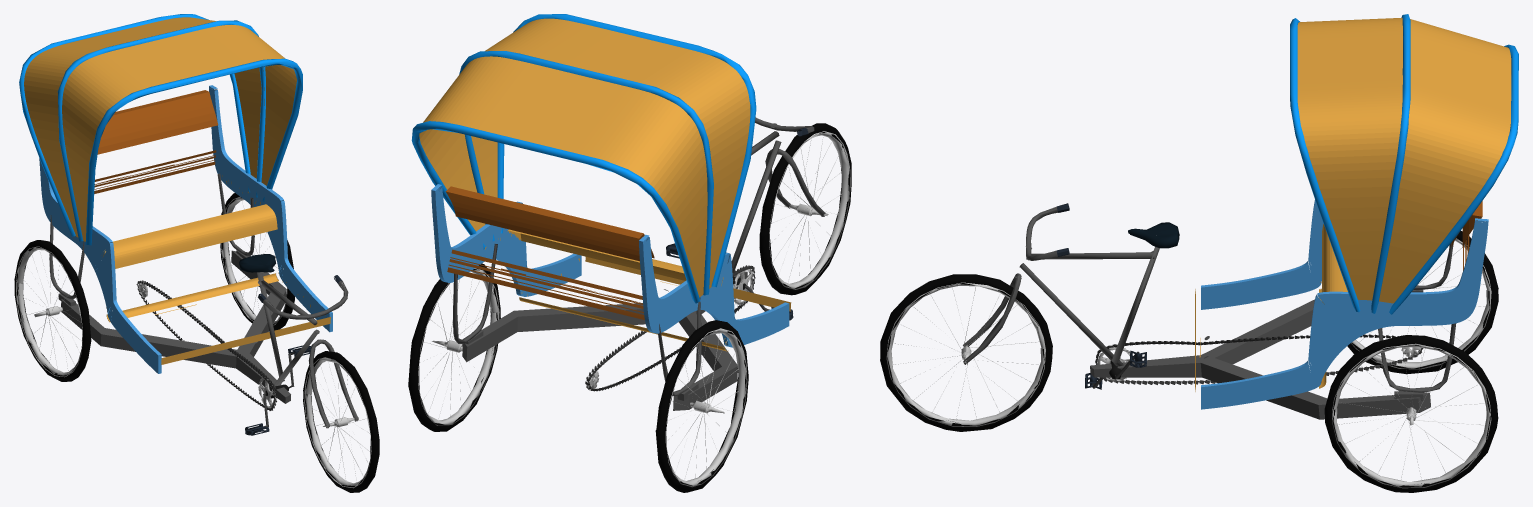
Rendered from cycle_rickshaw.glb.
The picture shows the model from 3 angles, left to right: view 1: azimuth 30°, elevation 25°; view 2: azimuth 150°, elevation 25°; view 3: azimuth 270°, elevation 25°; orthographic projection. The views are drawn at different scales.
Parts seen in each view (by area): view 1: cycle_rickshaw; view 2: cycle_rickshaw; view 3: cycle_rickshaw.
Boxes of the visible parts, left/top/right/bottom form: cycle_rickshaw: left=14, top=14, right=379, bottom=492; cycle_rickshaw: left=408, top=14, right=851, bottom=492; cycle_rickshaw: left=880, top=14, right=1518, bottom=492.
Bounding box in the file's own units: 1.3 × 1.64 × 2.5.
